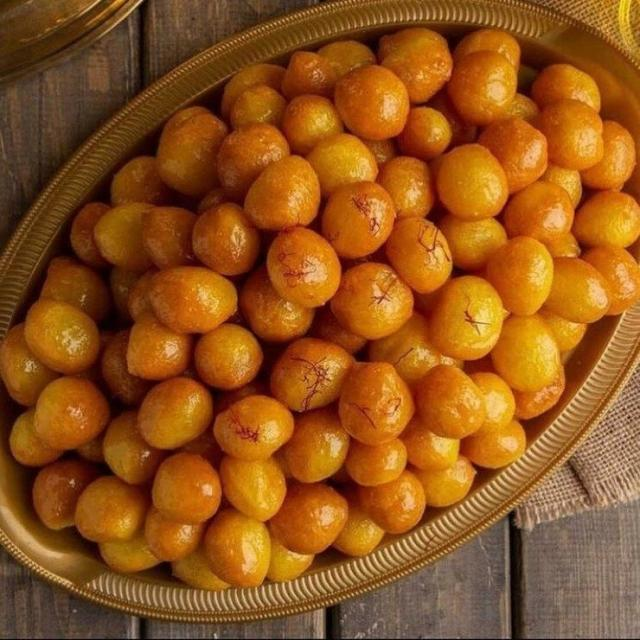Luqaimat: (0, 6, 640, 601)
